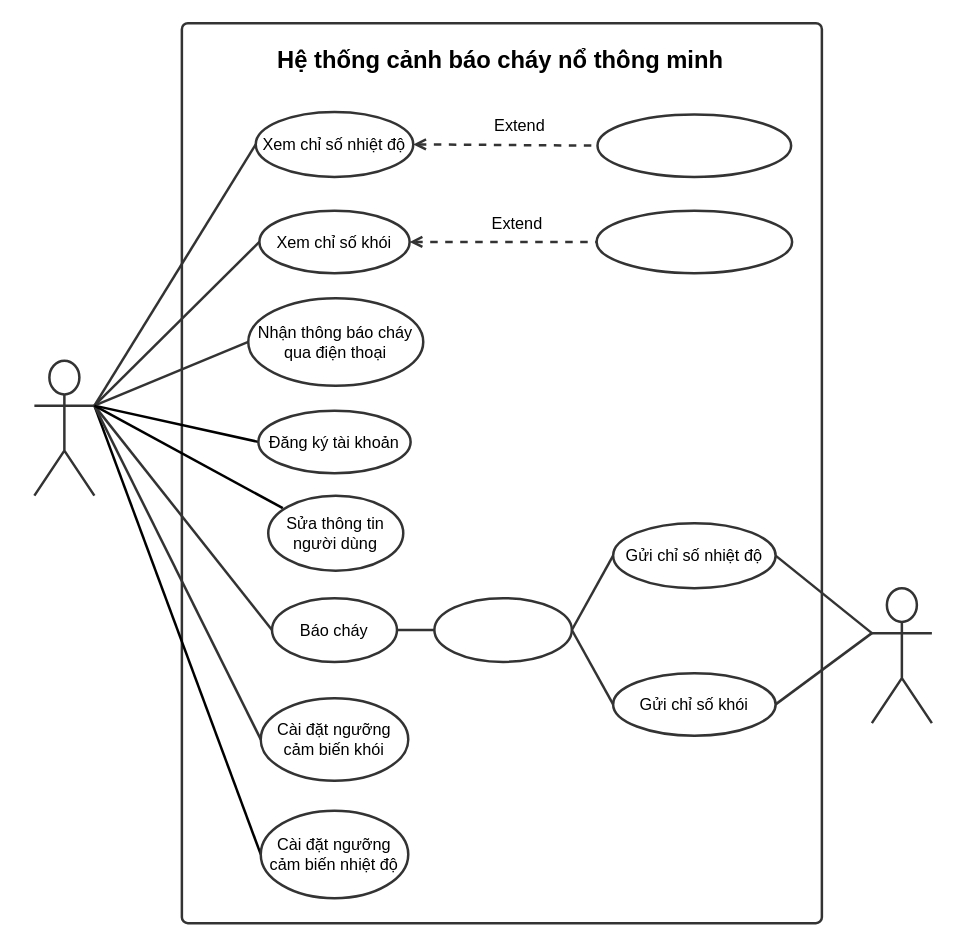
Image size: 955x945. Some labels were removed from this diagram. The shapes that lost their labels are listed below. From the top down, each one's centre as x and y in pixels, then its label:
(x=694, y=145): Xem thống kê nhiệt độ
(x=694, y=241): Xem thống kê khói
(x=63, y=427): Người dùng
(x=502, y=629): Nhận dạng cháy
(x=901, y=655): Sensor
